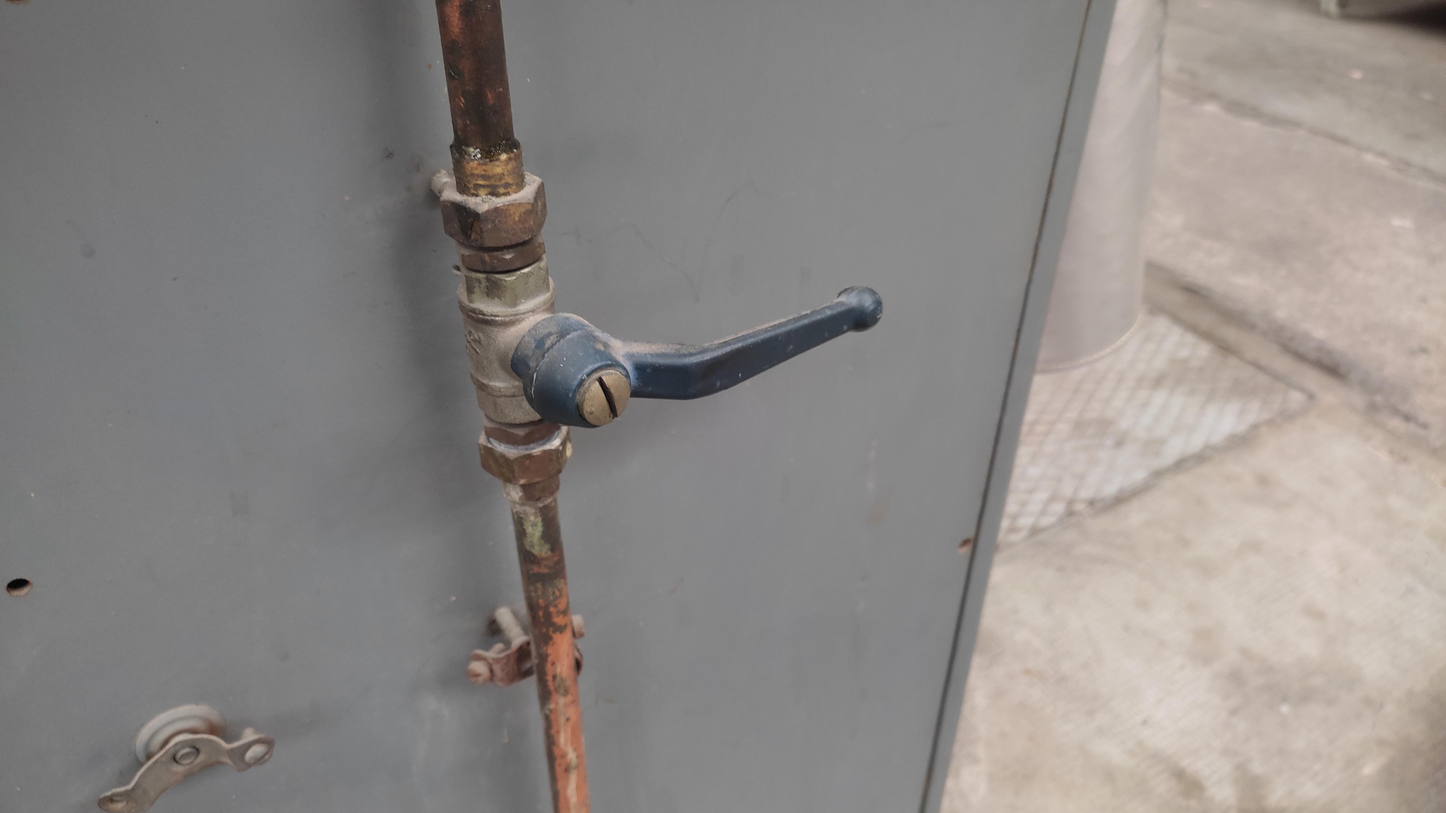closed valve: (451, 257, 887, 437)
